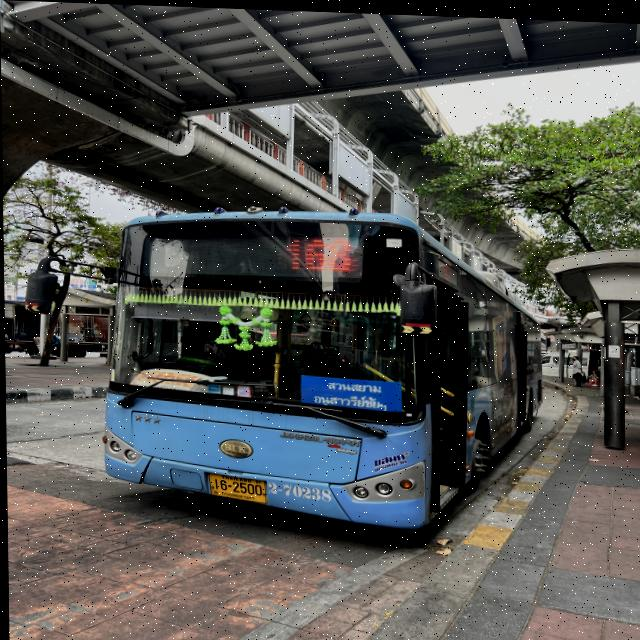BMTA-bus: (96, 203, 545, 536)
Bus-Line-Number: (280, 226, 360, 274)
Destination-Sign-Normal: (299, 374, 400, 410)
